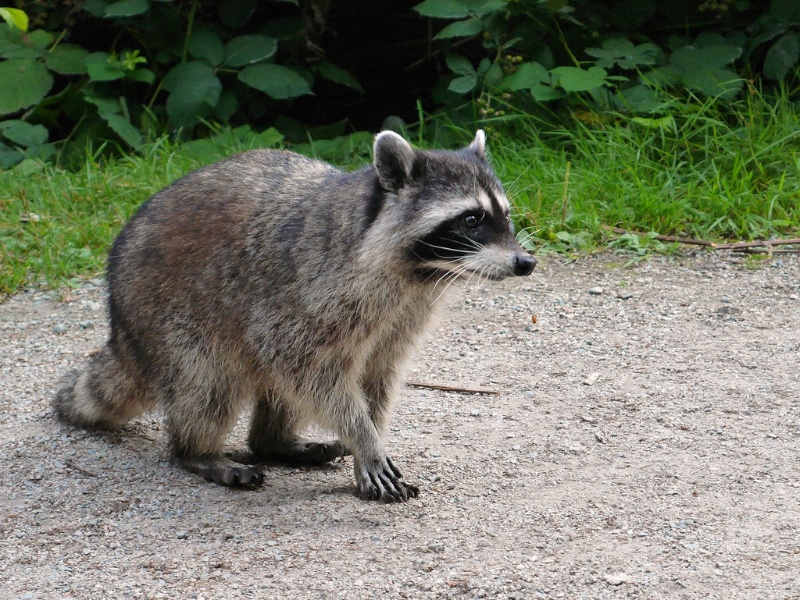raccoon: (36, 128, 544, 512)
